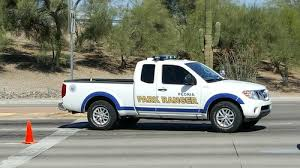Vehicle: (57, 55, 273, 137)
